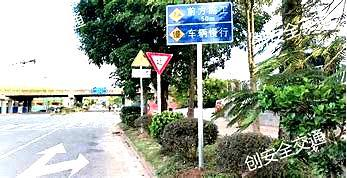sign: (167, 6, 232, 42)
